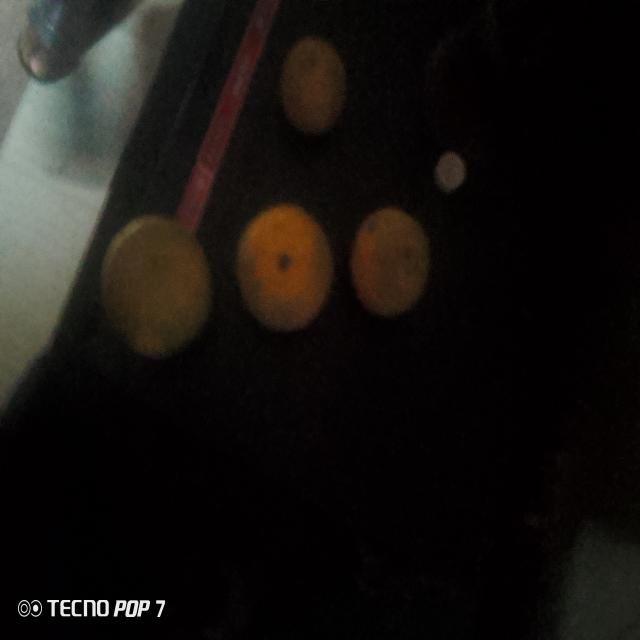Ripe orange: (232, 202, 328, 330), (350, 204, 424, 321), (278, 36, 347, 130)
